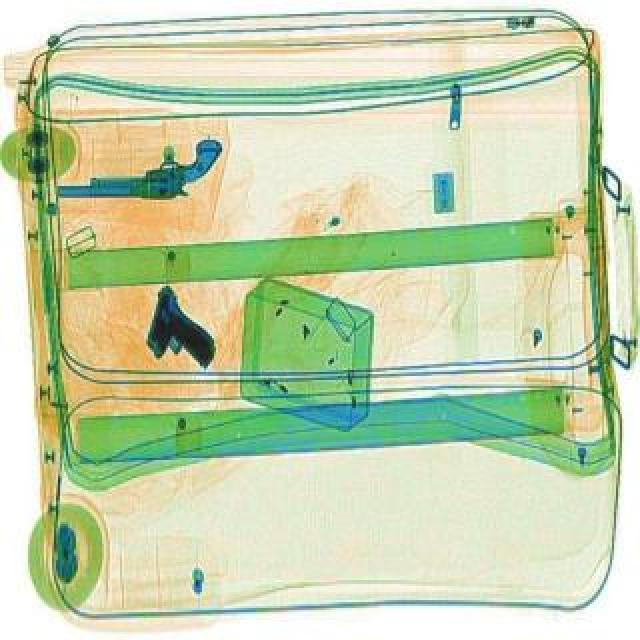gun: (58, 138, 222, 204), (122, 288, 230, 384)
